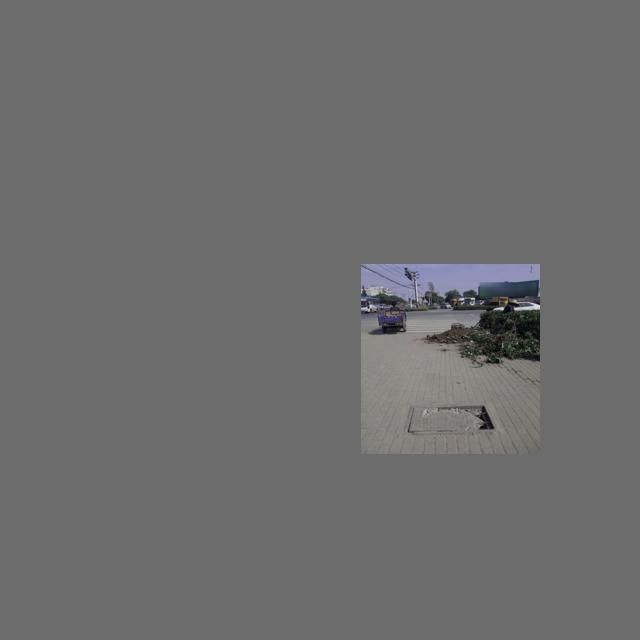broke: (404, 403, 499, 435)
